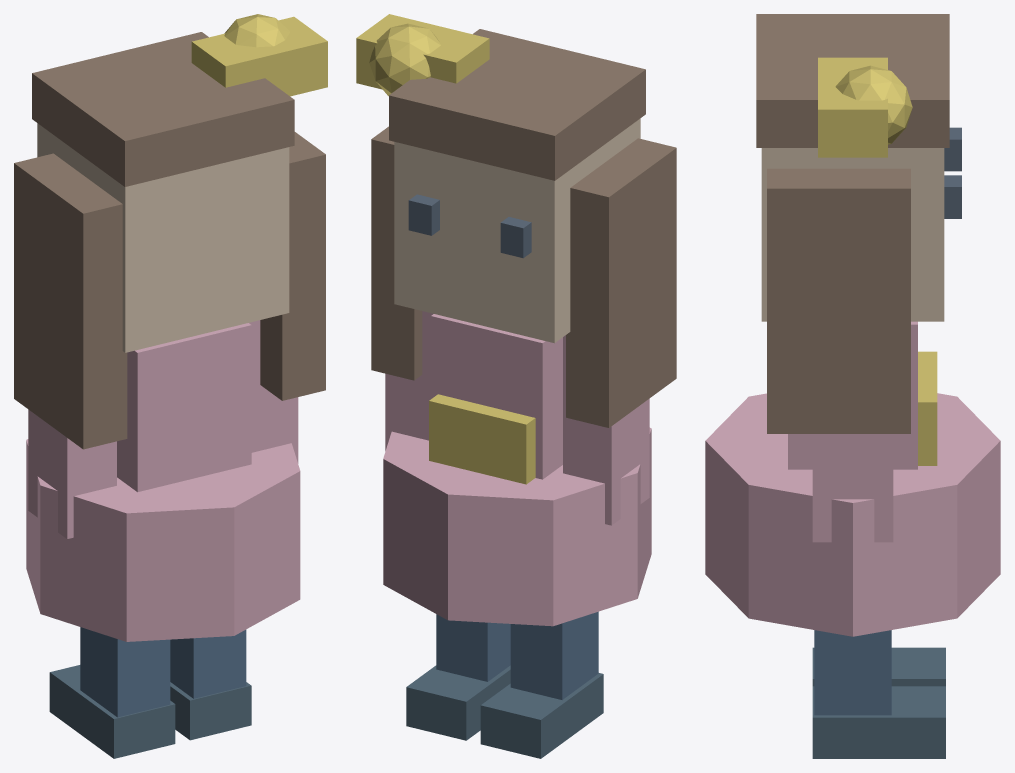
The model's file is Player_Girl.glb.
The picture shows the model from 3 angles, left to right: view 1: azimuth 30°, elevation 25°; view 2: azimuth 150°, elevation 25°; view 3: azimuth 270°, elevation 25°; orthographic projection. The views are drawn at different scales.
Parts seen in each view (by area): view 1: Part_02, Part_09, Part_13, Part_10, Part_00, Part_14, Part_15, Part_05, Part_03, Part_07, Part_06, Part_04 (+2 smaller); view 2: Part_02, Part_09, Part_13, Part_10, Part_00, Part_14, Part_17, Part_07, Part_03, Part_05, Part_08, Part_15 (+5 smaller); view 3: Part_02, Part_14, Part_10, Part_09, Part_08, Part_04, Part_06, Part_15, Part_16, Part_00, Part_07, Part_17 (+2 smaller).
Part boxes in pixels (left/top/right/bottom): Part_02: left=26, top=439, right=300, bottom=641; Part_09: left=37, top=123, right=289, bottom=352; Part_13: left=14, top=153, right=127, bottom=449; Part_10: left=32, top=32, right=294, bottom=186; Part_00: left=117, top=323, right=251, bottom=492; Part_14: left=260, top=132, right=325, bottom=400; Part_15: left=191, top=16, right=327, bottom=96; Part_05: left=80, top=627, right=170, bottom=717; Part_03: left=28, top=409, right=116, bottom=538; Part_07: left=49, top=665, right=175, bottom=758; Part_06: left=170, top=629, right=246, bottom=698; Part_04: left=249, top=320, right=298, bottom=463; Part_02: left=383, top=427, right=651, bottom=626; Part_09: left=394, top=118, right=640, bottom=343; Part_13: left=566, top=138, right=676, bottom=427; Part_10: left=389, top=29, right=645, bottom=180; Part_00: left=431, top=314, right=562, bottom=479; Part_14: left=371, top=126, right=422, bottom=380; Part_17: left=429, top=394, right=535, bottom=484; Part_07: left=480, top=673, right=603, bottom=758; Part_03: left=563, top=335, right=649, bottom=525; Part_05: left=510, top=611, right=598, bottom=699; Part_08: left=406, top=665, right=510, bottom=740; Part_15: left=356, top=14, right=489, bottom=89; Part_02: left=705, top=393, right=1000, bottom=636; Part_14: left=767, top=168, right=910, bottom=433; Part_10: left=756, top=14, right=949, bottom=147; Part_09: left=761, top=148, right=944, bottom=321; Part_08: left=812, top=686, right=945, bottom=758; Part_04: left=812, top=434, right=893, bottom=542; Part_06: left=814, top=630, right=891, bottom=715; Part_15: left=818, top=57, right=887, bottom=157; Part_16: left=835, top=65, right=912, bottom=144; Part_00: left=788, top=321, right=917, bottom=469; Part_07: left=812, top=647, right=945, bottom=686; Part_17: left=918, top=351, right=937, bottom=465.
Bounding box in the file's own units: 0.925 × 2.22 × 0.84.
